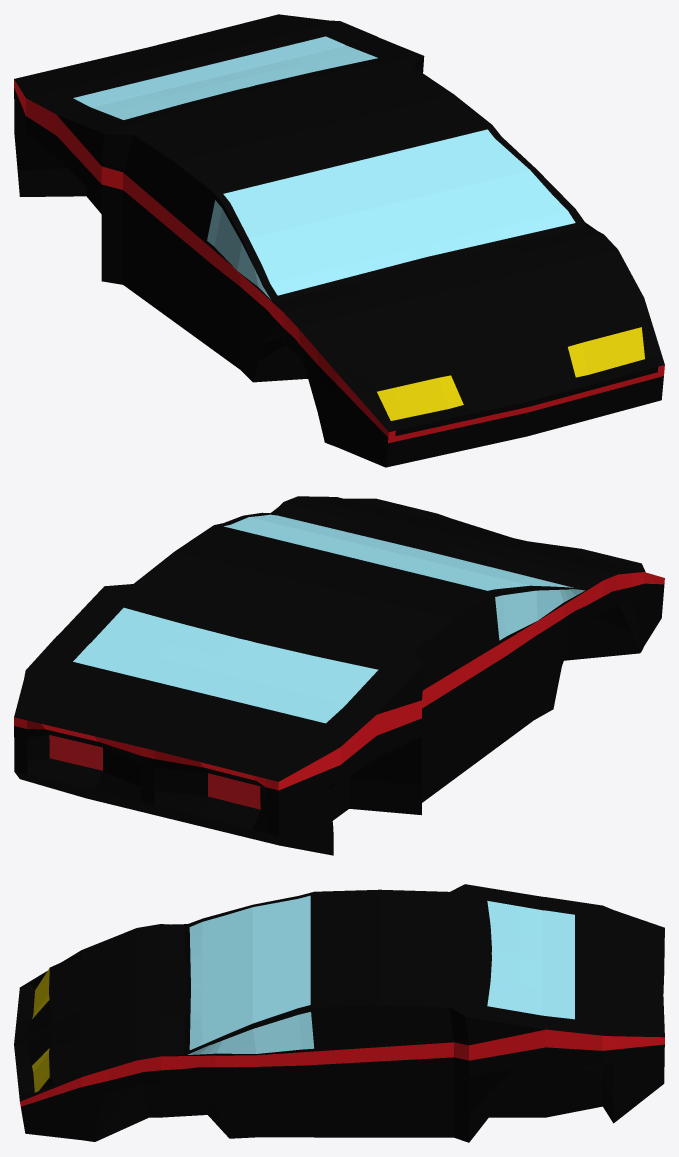
The model's file is Countach.fbx.
The picture shows the model from 3 angles, top to bottom: view 1: azimuth 30°, elevation 25°; view 2: azimuth 150°, elevation 25°; view 3: azimuth 270°, elevation 25°; orthographic projection. The views are drawn at different scales.
Parts seen in each view (by area): view 1: Cube; view 2: Cube; view 3: Cube.
Boxes of the visible parts, x1=… form: Cube: x1=14, y1=14, x2=664, y2=467; Cube: x1=14, y1=496, x2=664, y2=855; Cube: x1=14, y1=884, x2=664, y2=1142.
Bounding box in the file's own units: 153 × 69.69 × 318.
